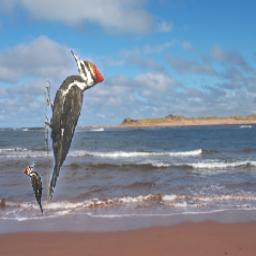Woodpecker: (46, 48, 105, 206), (24, 162, 44, 218)
